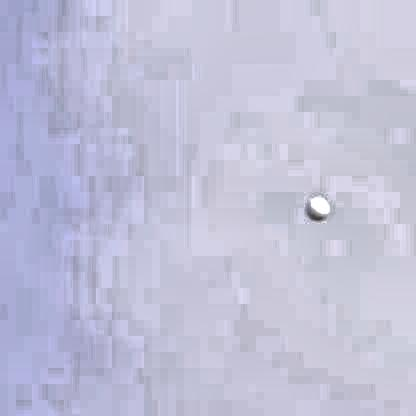golfball: (302, 190, 326, 218)
